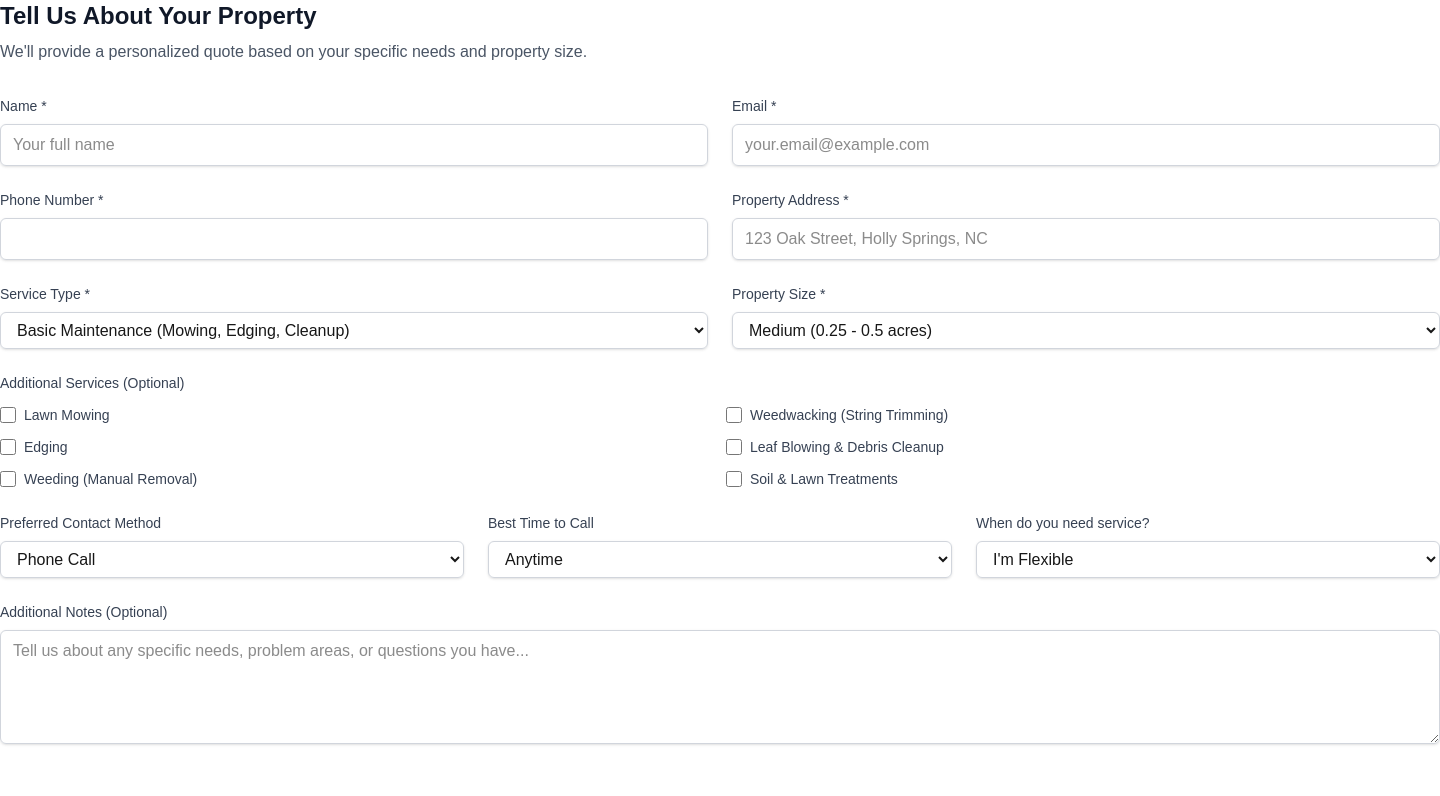
Scenario: QuoteForm Component › Form Interaction › shows loading state when form is being submitted
The width and height of the screenshot is (1440, 796).
Fill out valid form
Type "John Smith" into the field labelled "Name *" at (354, 145), box [0,124,708,166]
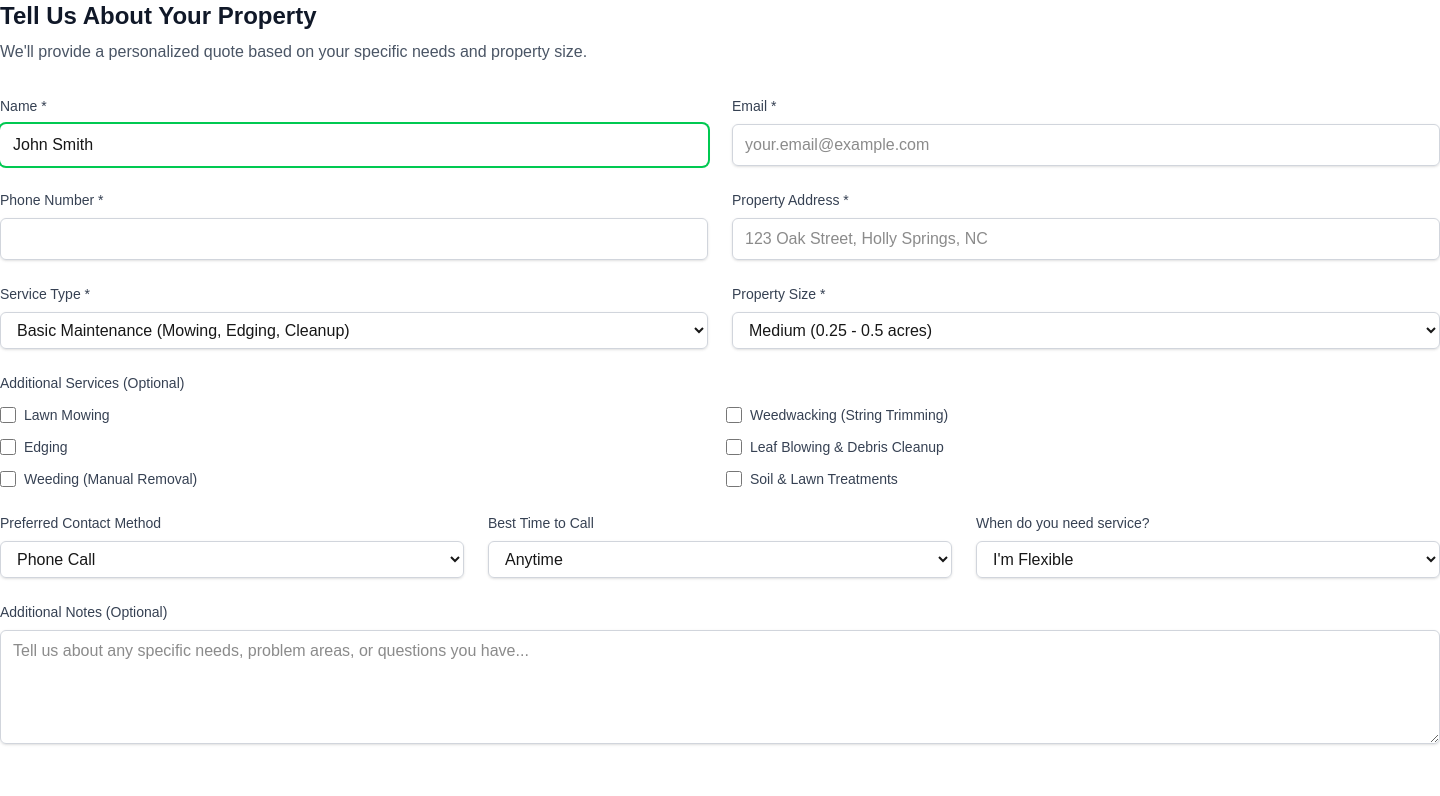
Type "john@example.com" into the field labelled "Email *" at (1086, 145), box [732,124,1439,166]
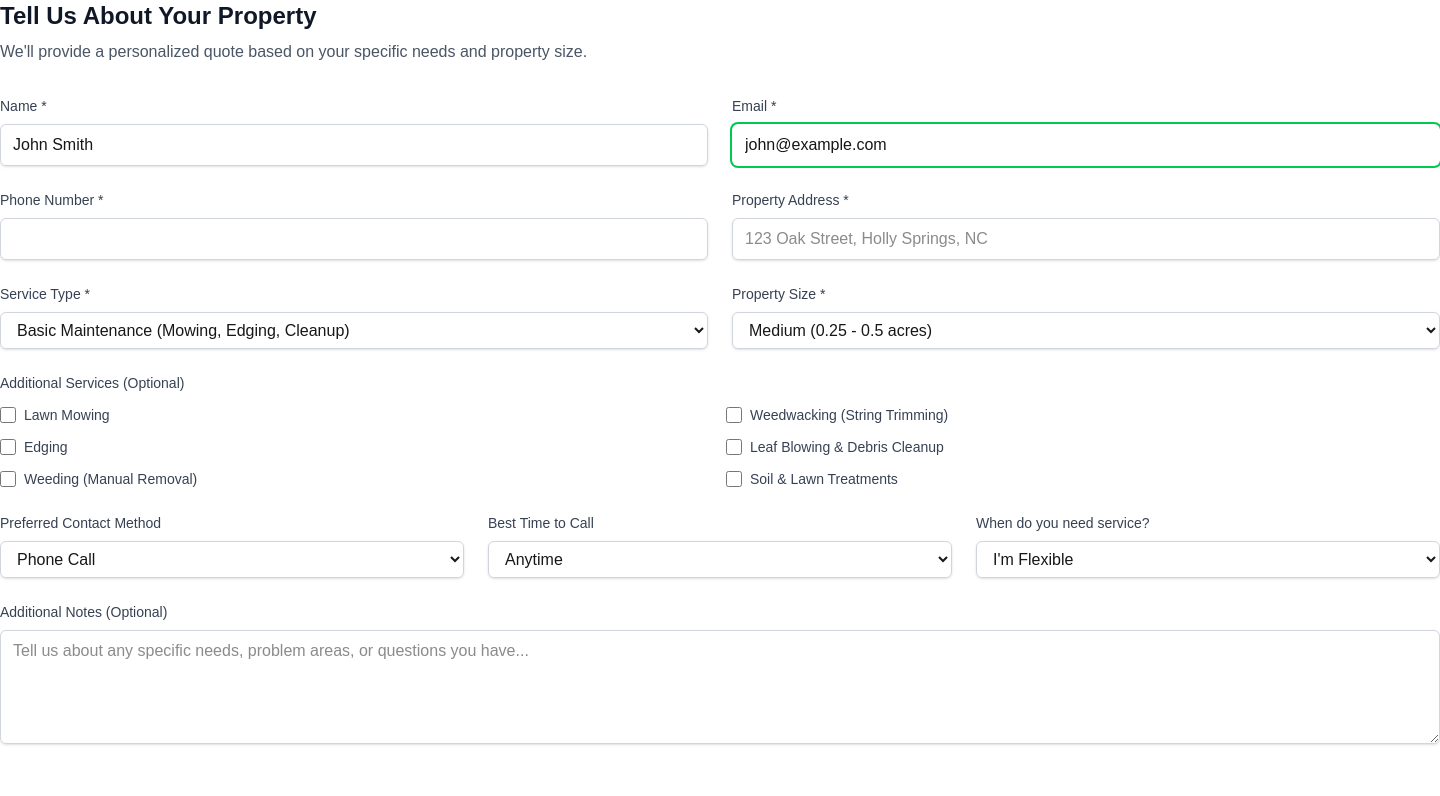
Type "9191234567" into the field labelled "Phone Number *" at (354, 239), box [0,218,708,260]
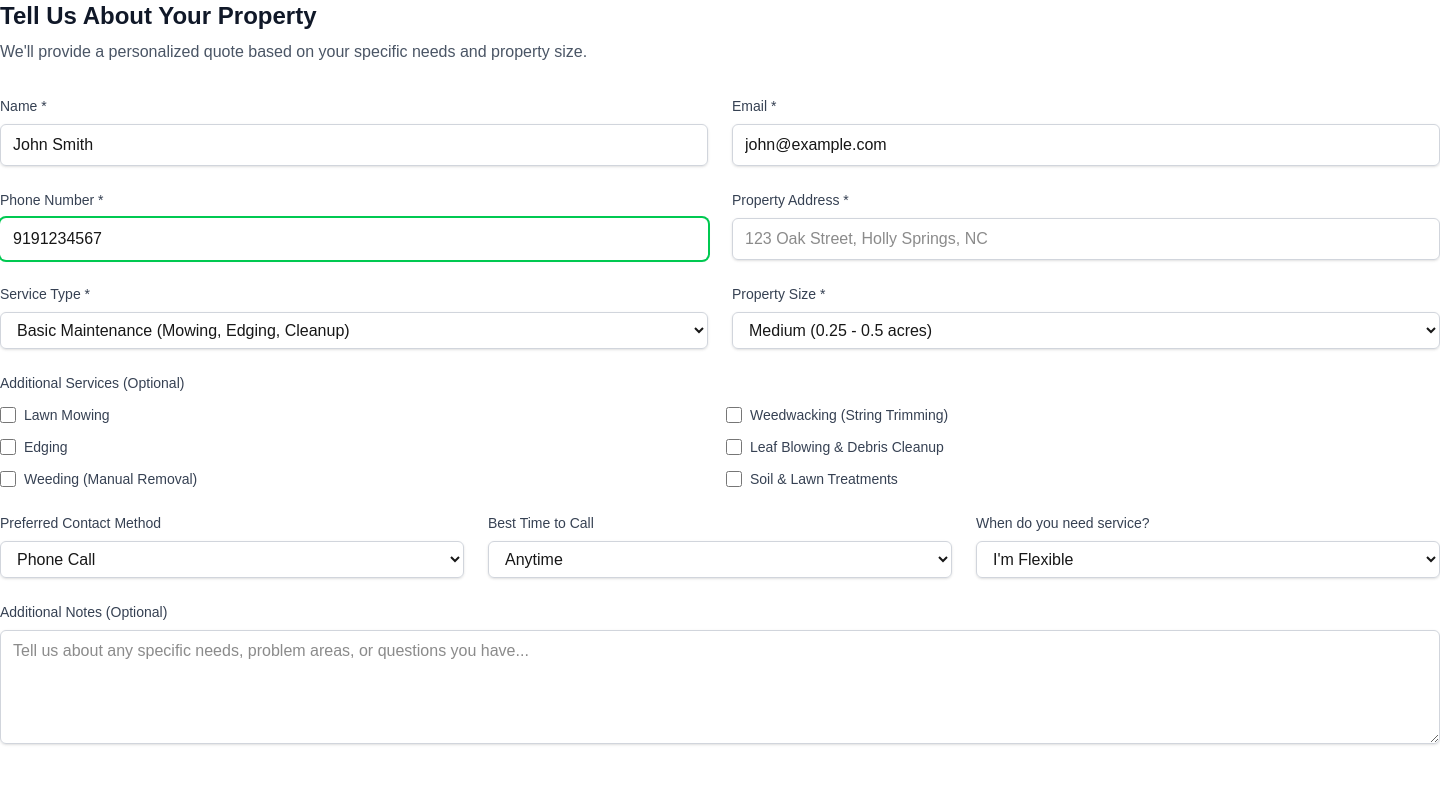
Type "123 Oak Street, Holly Springs" into the field labelled "Property Address *" at (1086, 239), box [732,218,1439,260]
(page scrolled)
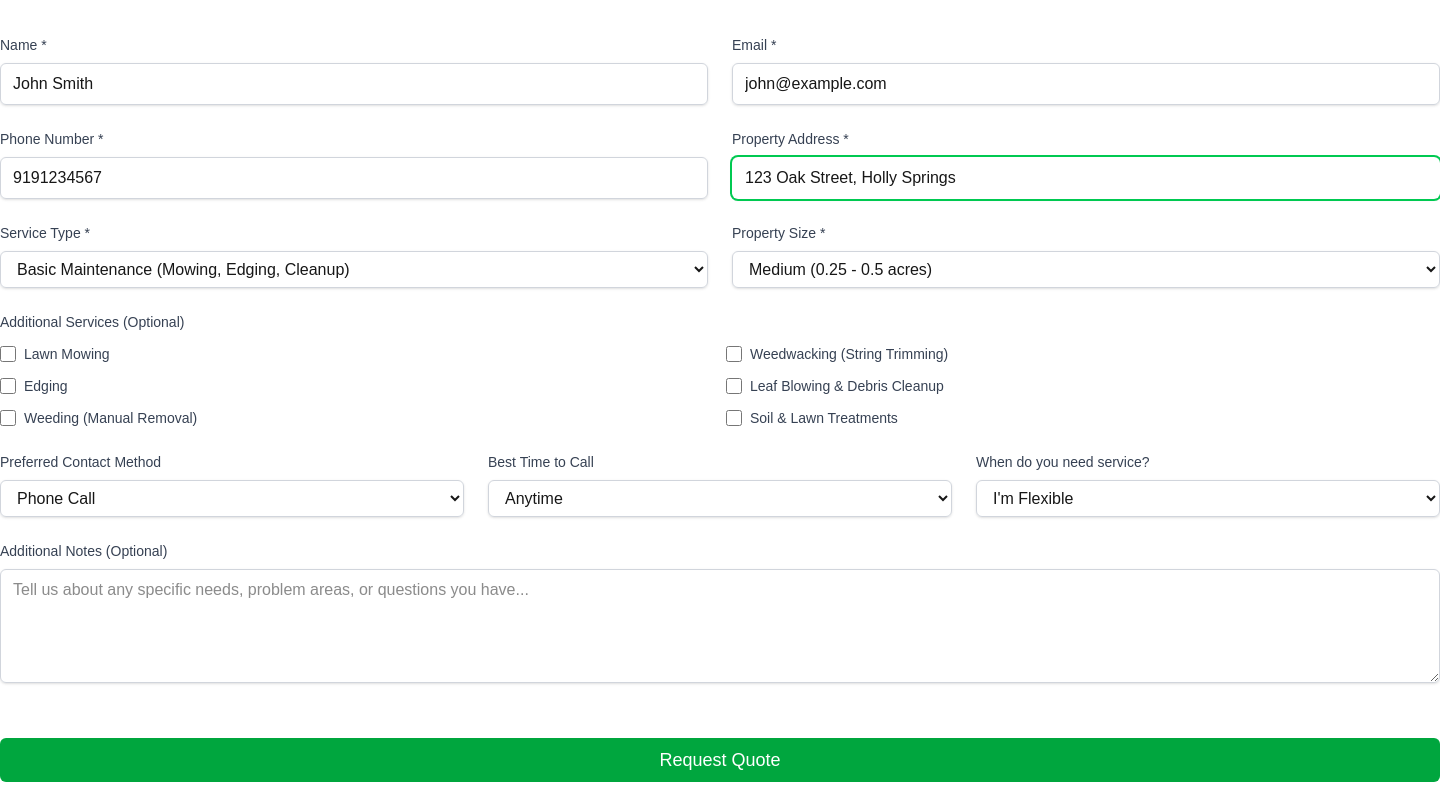
Click the button "Request Quote" at (720, 760), box [0,738,1439,782]
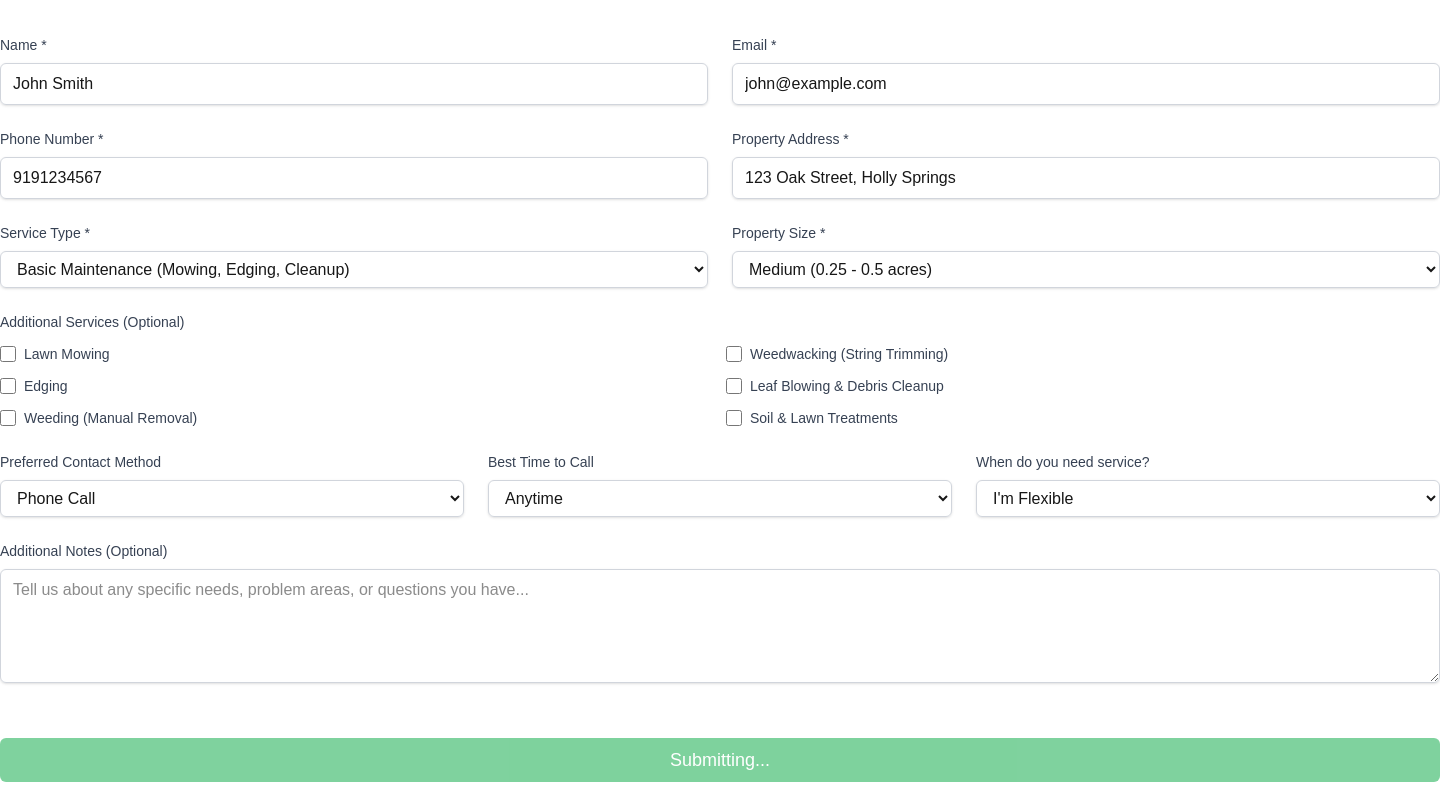
Result: the button "Submitting..." is shown at [0,738,1439,782]
